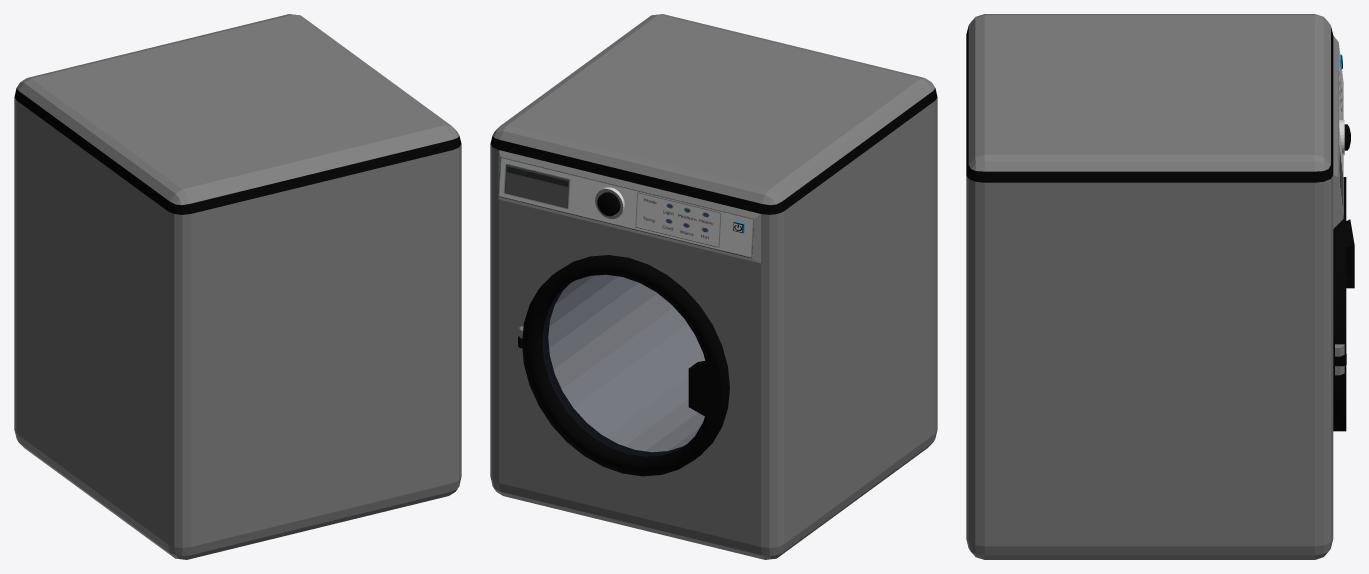
Rendered from WashingMachine.fbx.
The picture shows the model from 3 angles, left to right: view 1: azimuth 30°, elevation 25°; view 2: azimuth 150°, elevation 25°; view 3: azimuth 270°, elevation 25°; orthographic projection. The views are drawn at different scales.
Parts seen in each view (by area): view 1: WashingMachine; view 2: WashingMachine, BarrelDoorWindow, BarrelDoor; view 3: WashingMachine, BarrelDoor.
Boxes of the visible parts, left/top/right/bottom form: WashingMachine: left=14, top=14, right=461, bottom=559; WashingMachine: left=490, top=14, right=937, bottom=559; BarrelDoorWindow: left=543, top=275, right=704, bottom=455; BarrelDoor: left=519, top=255, right=729, bottom=476; WashingMachine: left=966, top=14, right=1350, bottom=559; BarrelDoor: left=1333, top=177, right=1354, bottom=431.
Bounding box in the file's own units: 70 × 85 × 74.1.
